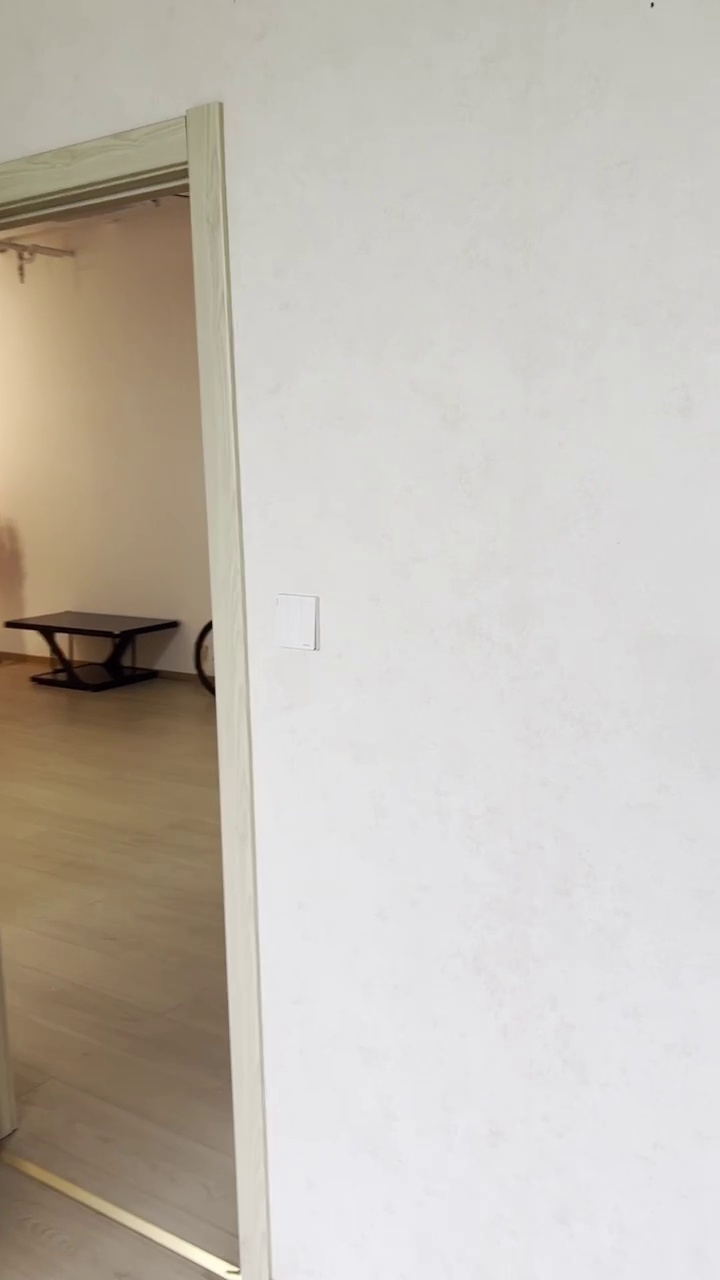button: (273, 591, 323, 654)
